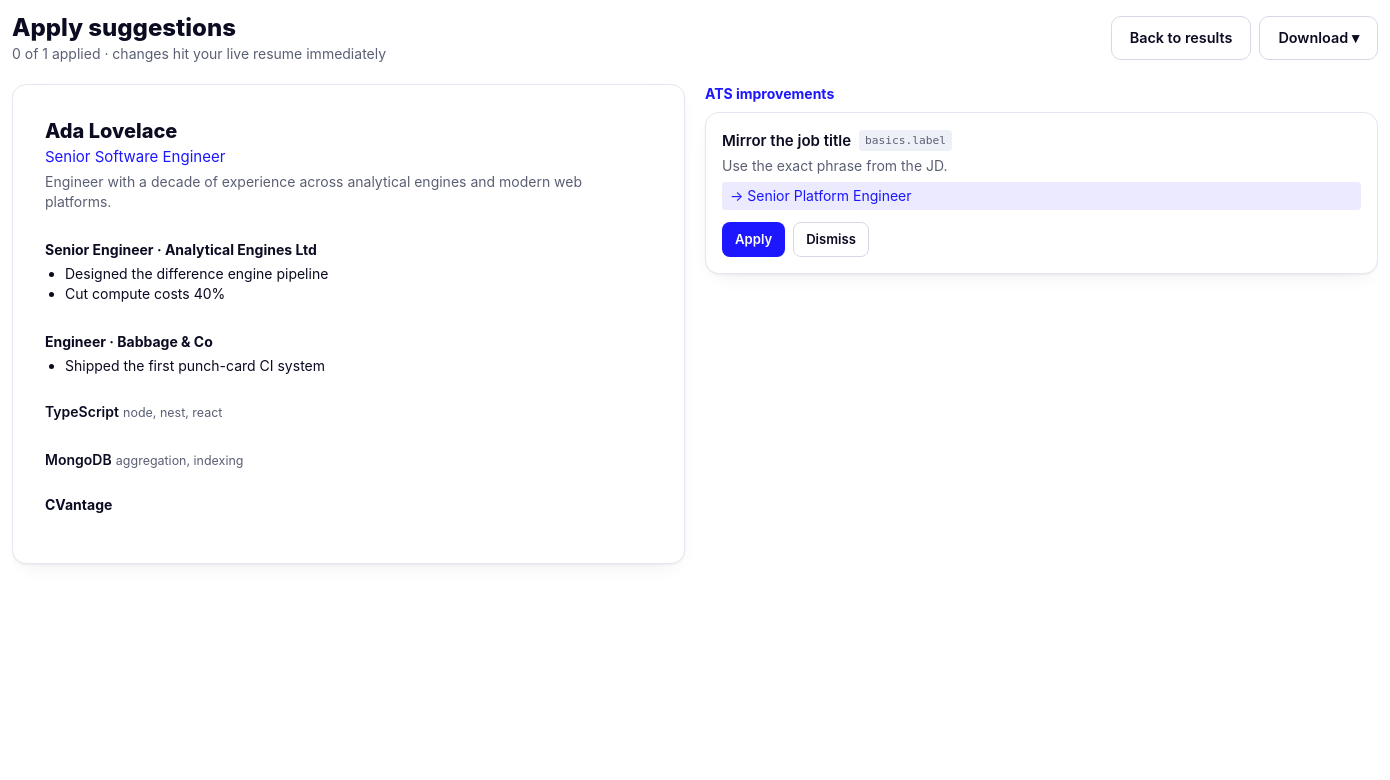
Test case: apply flow (issue #75 / 8.11) › dismiss persists via refetch; dismissed cards drop their Dismiss button
Expected: the text "Mirror the job title" is shown, [722,129,851,152]
Click the button "Dismiss": (831, 239) [793,222,869,257]
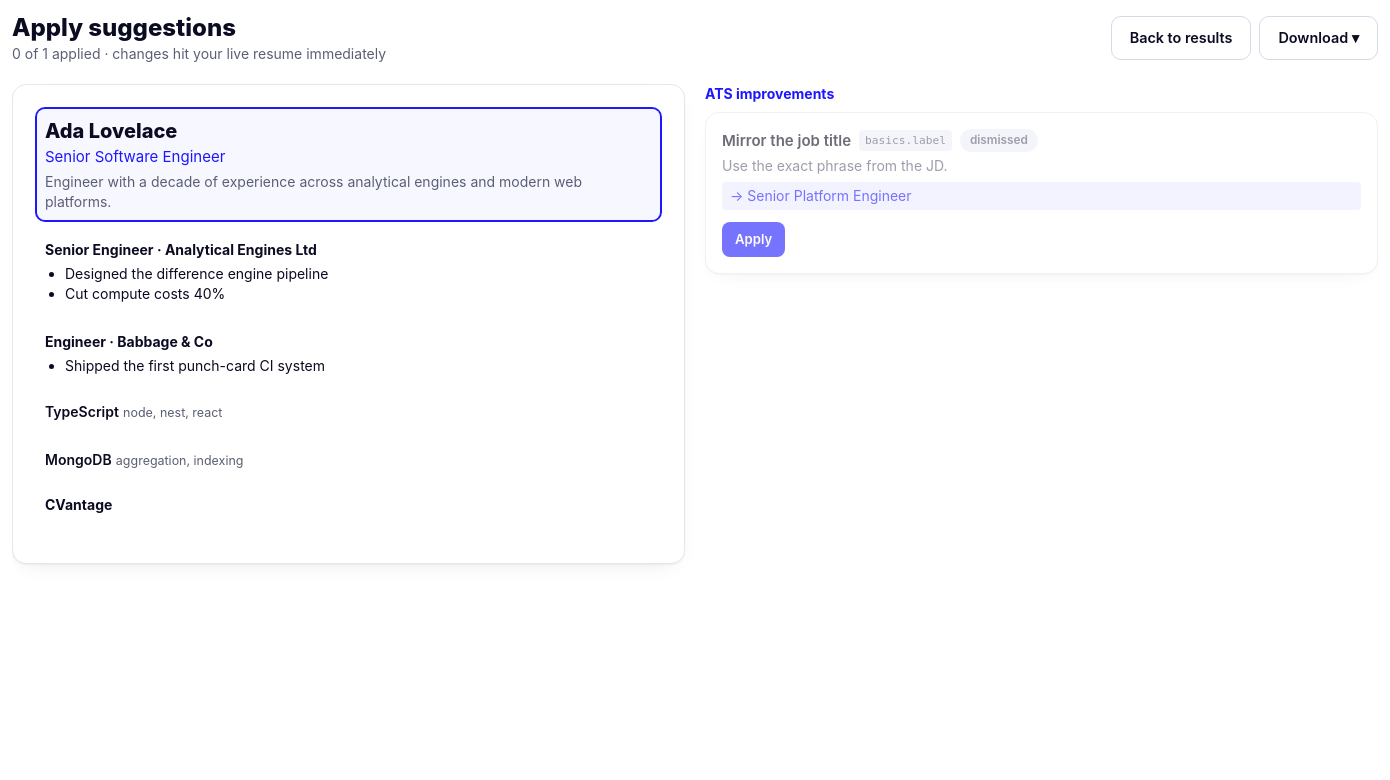
Expected: the text "dismissed" is shown, [960,130,1038,152]
